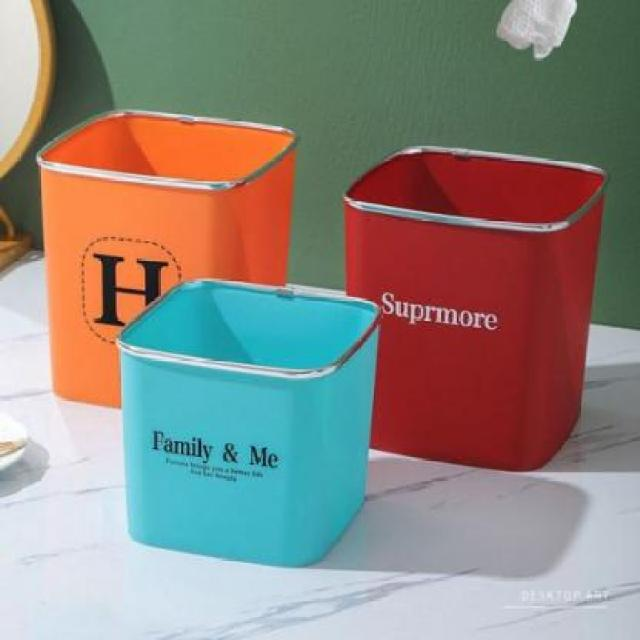dustbin: (338, 143, 611, 475), (34, 106, 302, 414), (112, 274, 384, 574)
